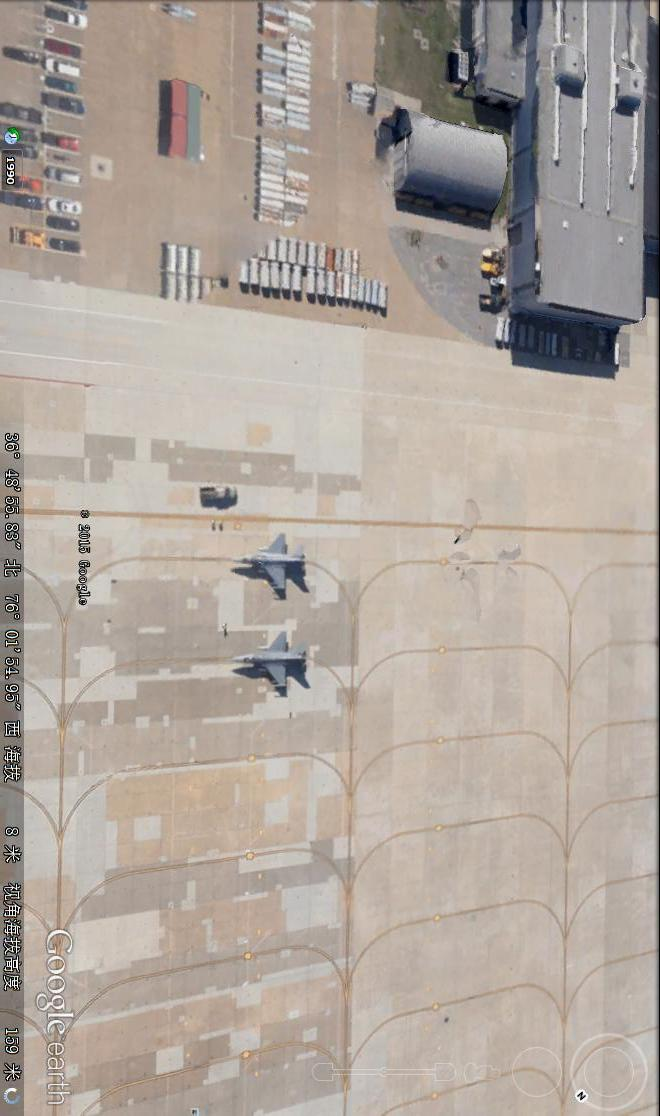F-16: (230, 626, 312, 695), (233, 527, 310, 597)
